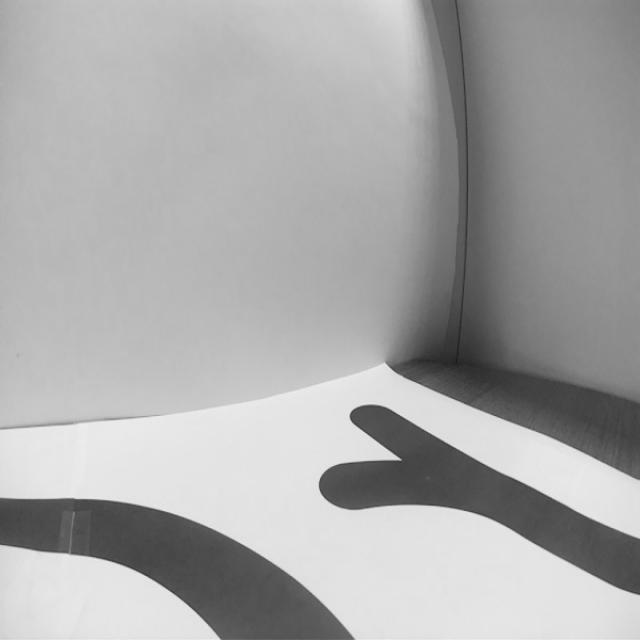laneLeftTurn: (119, 487, 363, 640)
